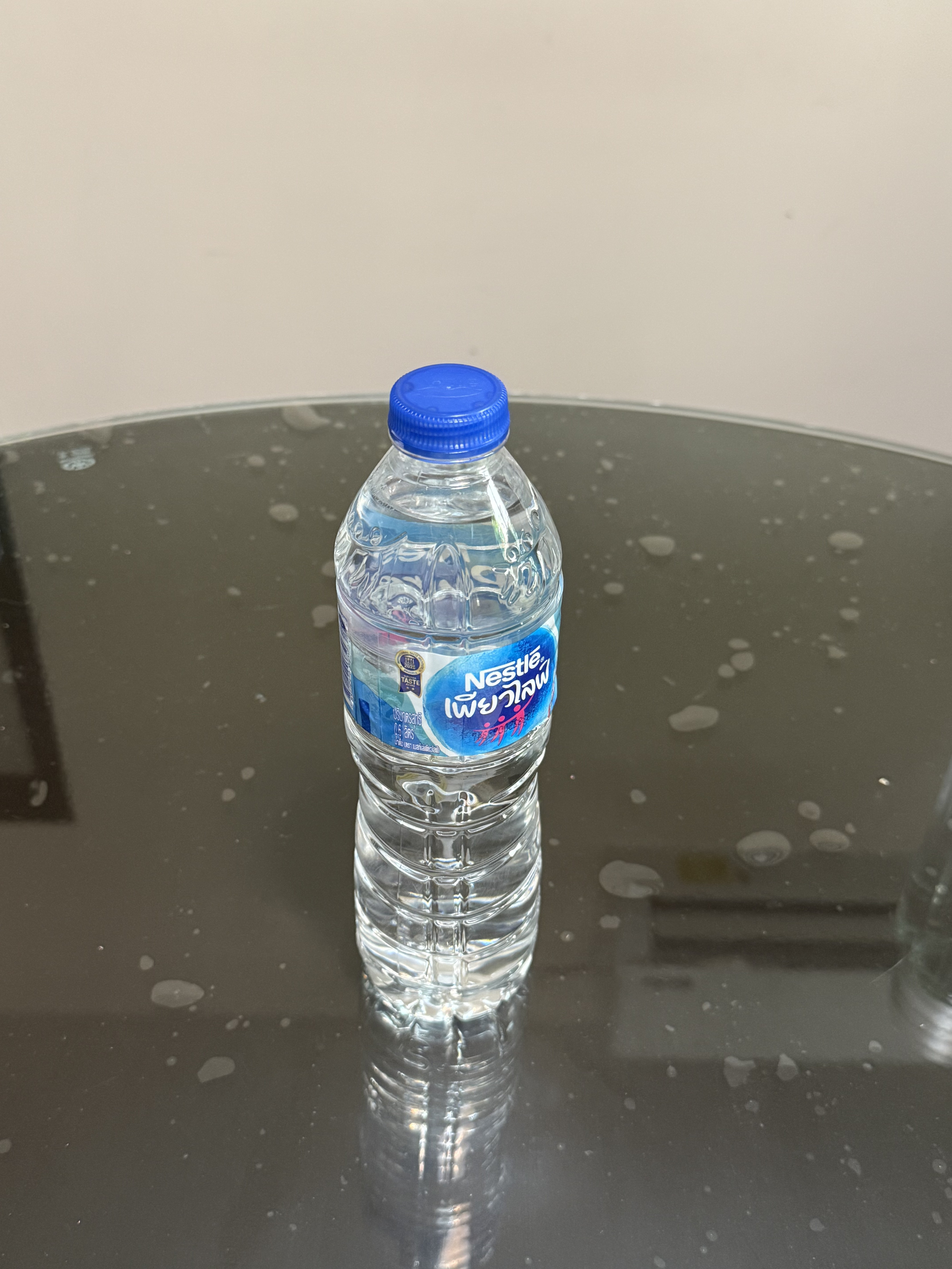closed_cap: (385, 359, 512, 460)
